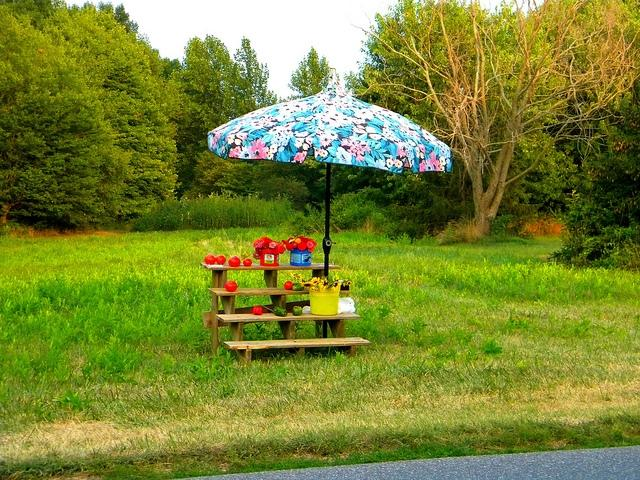bell pepper: (275, 309, 288, 317), (293, 306, 303, 316), (216, 255, 226, 264), (252, 306, 262, 315), (284, 281, 293, 290), (243, 258, 252, 266), (274, 306, 282, 312), (293, 282, 302, 286)
